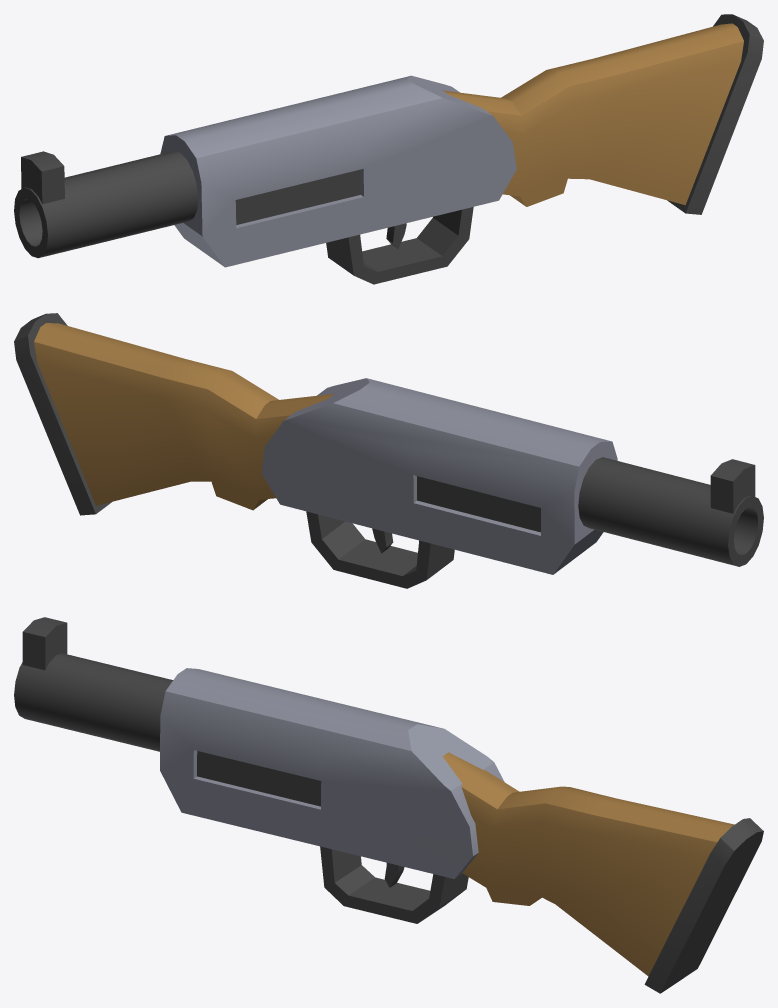
The model's file is quaternius-toon-shooter-game-shortcannon.glb.
The picture shows the model from 3 angles, top to bottom: view 1: azimuth 30°, elevation 25°; view 2: azimuth 150°, elevation 25°; view 3: azimuth 330°, elevation 25°; orthographic projection.
Parts seen in each view (by area): view 1: ShortCannon; view 2: ShortCannon; view 3: ShortCannon.
Part boxes in pixels (bbox=[...]): ShortCannon: bbox=[14, 14, 763, 284]; ShortCannon: bbox=[14, 313, 763, 588]; ShortCannon: bbox=[14, 617, 763, 993].
Bounding box in the file's own units: 1.21 × 0.3141 × 0.1318.
